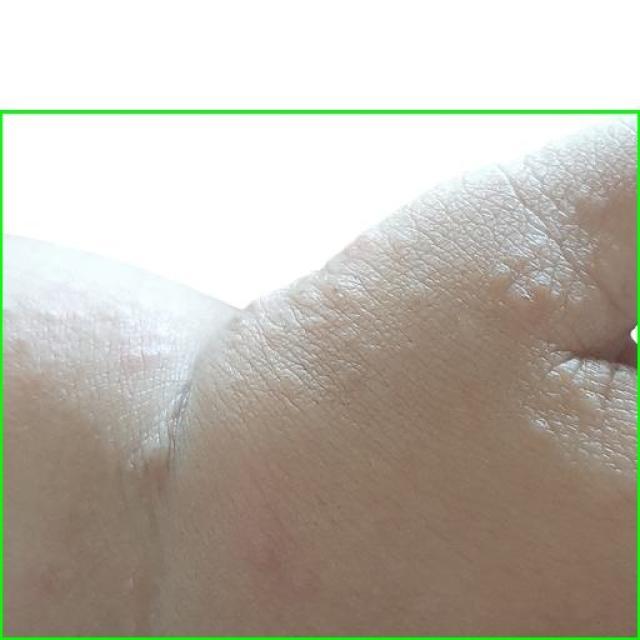Scabies: (0, 111, 639, 639)
